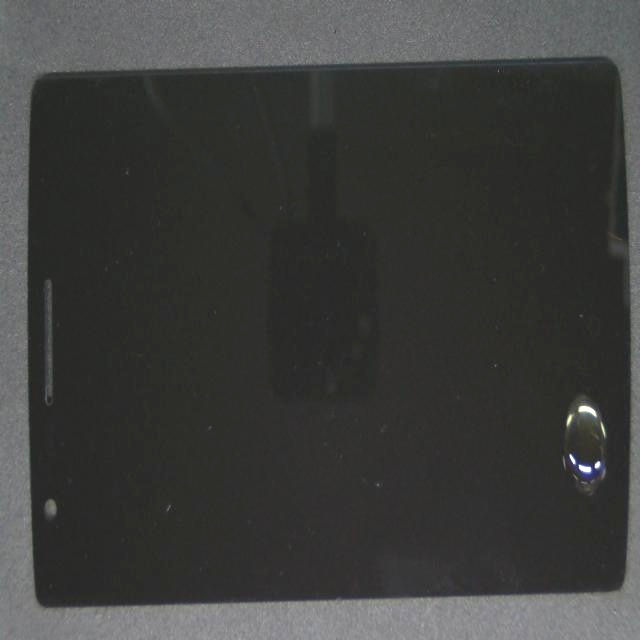oil: (309, 189, 640, 601)
